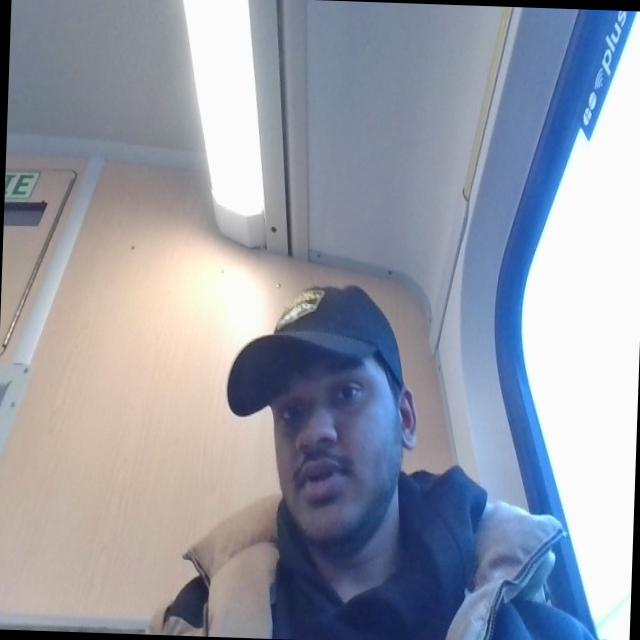hat: (224, 269, 417, 426)
